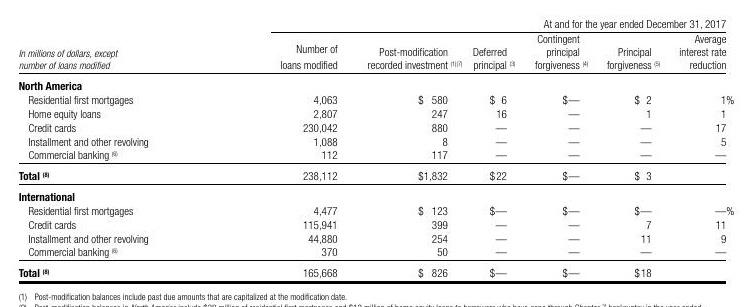table: (0, 0, 753, 307)
